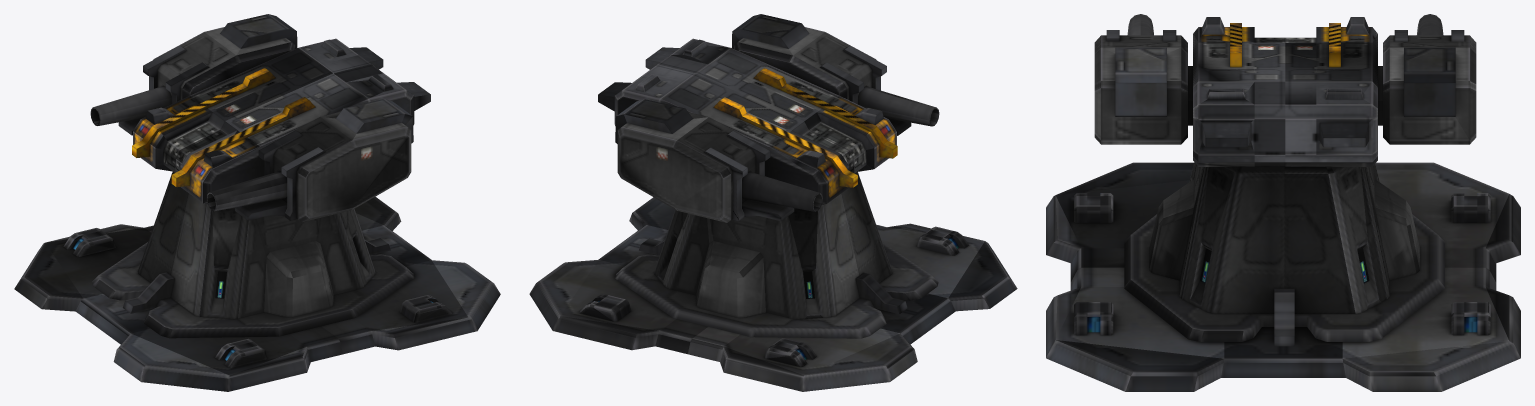
The model's file is Heavy_Defense-Tower.fbx.
The picture shows the model from 3 angles, left to right: view 1: azimuth 30°, elevation 25°; view 2: azimuth 150°, elevation 25°; view 3: azimuth 270°, elevation 25°; orthographic projection. The views are drawn at different scales.
Visible parts, largest first — view 1: Heavy_Defense_Tower, Heavy_Defense_Tower_Laser, Heavy_Defense_Tower_Turret; view 2: Heavy_Defense_Tower, Heavy_Defense_Tower_Laser, Heavy_Defense_Tower_Turret; view 3: Heavy_Defense_Tower, Heavy_Defense_Tower_Turret, Heavy_Defense_Tower_Laser.
Part boxes in pixels (x1,y1,x2,y2): Heavy_Defense_Tower: [14, 172, 500, 391]; Heavy_Defense_Tower_Laser: [90, 14, 413, 222]; Heavy_Defense_Tower_Turret: [132, 38, 430, 204]; Heavy_Defense_Tower: [529, 172, 1017, 391]; Heavy_Defense_Tower_Laser: [615, 14, 939, 222]; Heavy_Defense_Tower_Turret: [598, 38, 897, 204]; Heavy_Defense_Tower: [1046, 162, 1520, 391]; Heavy_Defense_Tower_Turret: [1188, 17, 1382, 166]; Heavy_Defense_Tower_Laser: [1094, 14, 1476, 144].
Size of the model in its own units: 1109 by 614 by 1019.
Materials: 4 (4 with a texture image).
